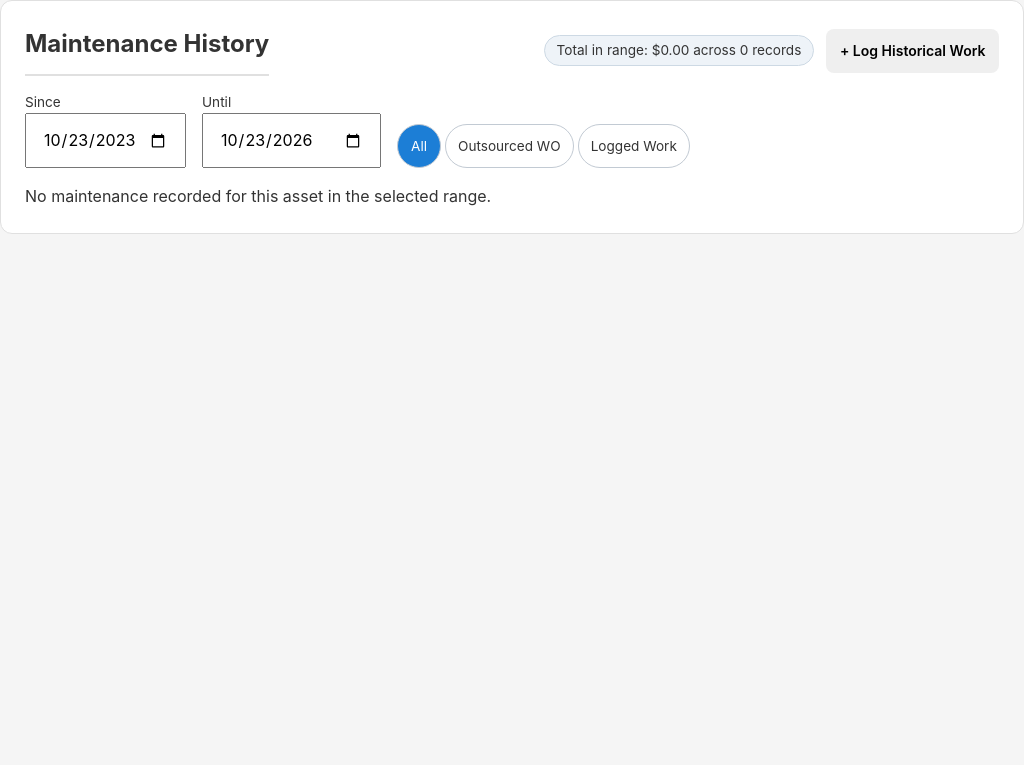
Scenario: MaintenanceHistorySection › shows the Log Historical Work button for staff and toggles the form
The image size is (1024, 765).
Expected: the text "No maintenance recorded" is shown, [25,186,491,206]
Click the button "+ Log Historical Work": [913, 51] box [826,29,999,73]
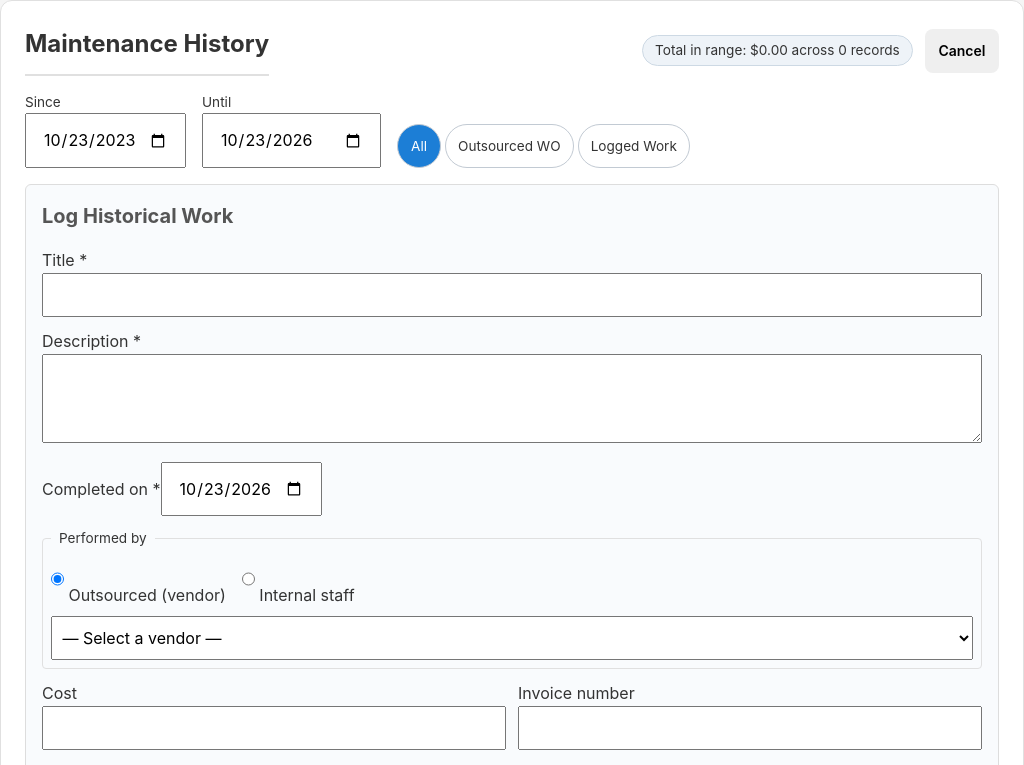
Expected: the heading "Log Historical Work" is shown, [42,204,233,228]
Result: the field labelled "Title *" is shown at [42,273,982,317]
